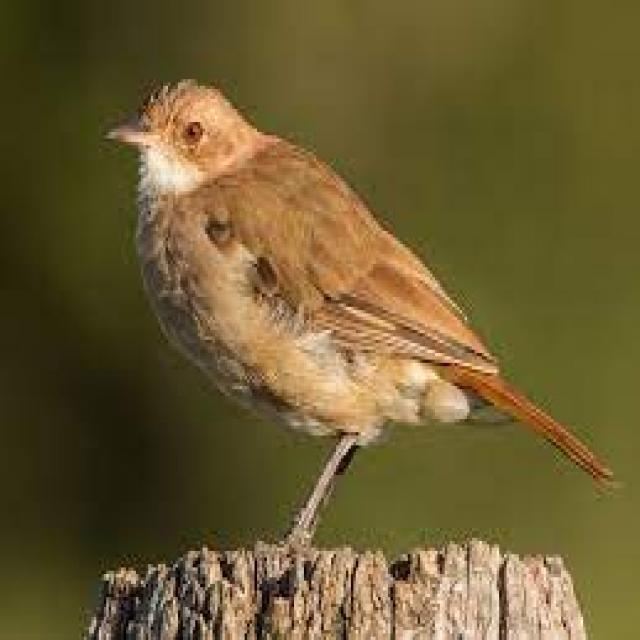bird: (89, 55, 640, 582)
